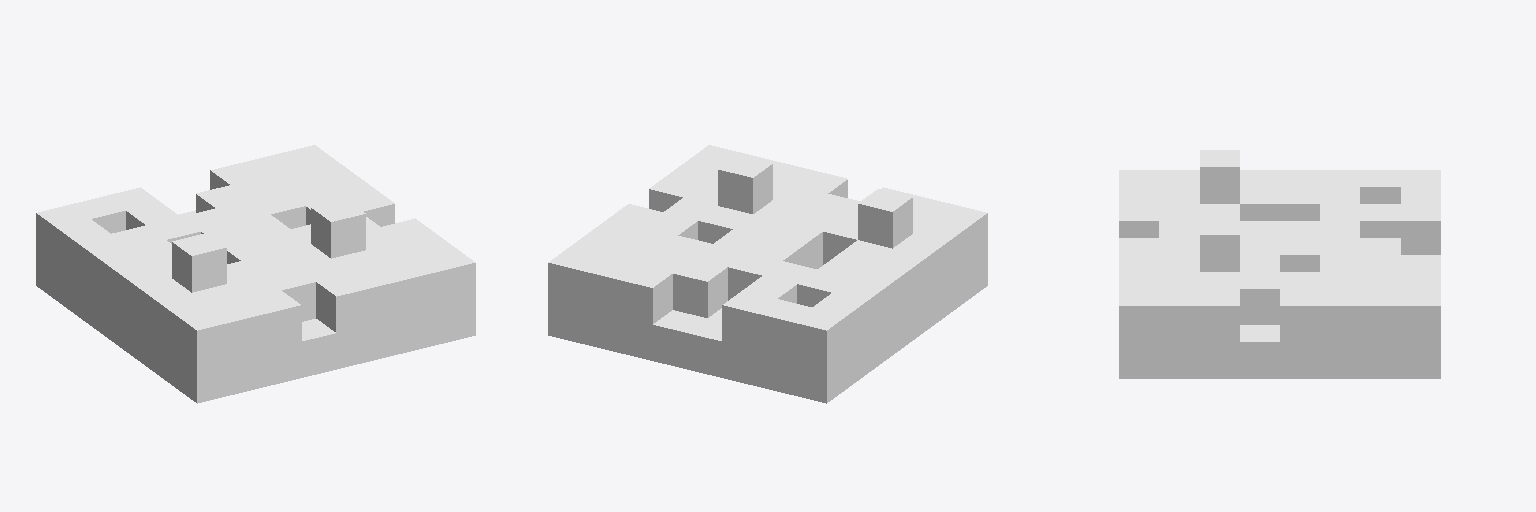
Rendered from GreenCorall16.obj.
3 renders of one model, left to right at view 1: azimuth 30°, elevation 25°; view 2: azimuth 150°, elevation 25°; view 3: azimuth 270°, elevation 25°, orthographic.
Visible parts, largest first — view 1: object 1; view 2: object 1; view 3: object 1.
Boxes of the visible parts, x1=… form: object 1: x1=36, y1=145, x2=475, y2=403; object 1: x1=548, y1=145, x2=987, y2=403; object 1: x1=1119, y1=150, x2=1440, y2=378.
Bounding box in the file's own units: 0.8 × 0.3 × 0.8.